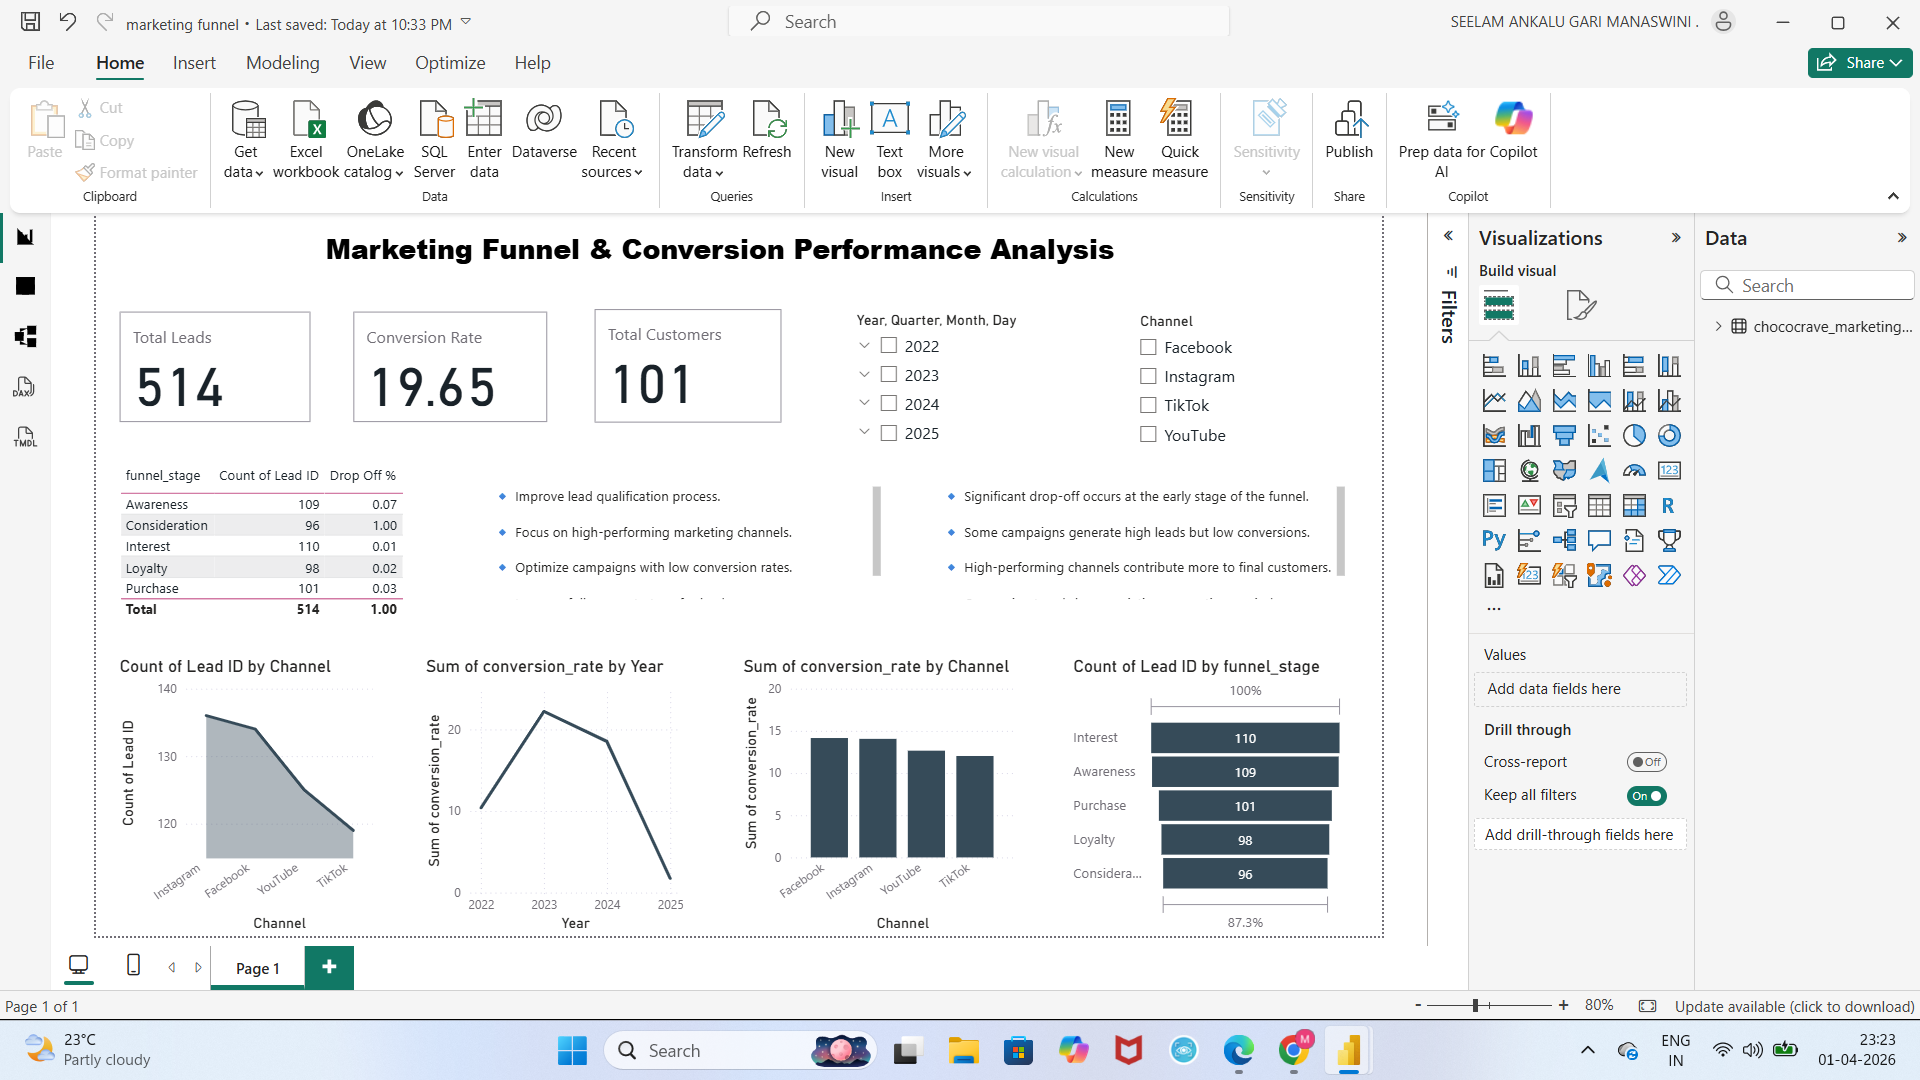

Layout of this report page (visuals, bound fields, positions):
{"tool":"powerbi","page":{"name":"Page 1","canvas":[1280,720],"ordinal":0},"visuals":[{"type":"funnel","fields":{"Category":["chococrave_marketing_funnel_202.funnel_stage"],"Y":["Count(chococrave_marketing_funnel_202.Lead ID)"]},"box":[967.4,440.5,279.9,279.9],"z":0},{"type":"columnChart","fields":{"Category":["chococrave_marketing_funnel_202.Channel"],"Y":["Sum(chococrave_marketing_funnel_202.conversion_rate)"]},"box":[639.5,440.5,279.9,279.9],"z":1000},{"type":"lineChart","fields":{"Category":["chococrave_marketing_funnel_202.Date.Variation.Date Hierarchy.Year","chococrave_marketing_funnel_202.Date.Variation.Date Hierarchy.Quarter","chococrave_marketing_funnel_202.Date.Variation.Date Hierarchy.Month","chococrave_marketing_funnel_202.Date.Variation.Date Hierarchy.Day"],"Y":["Sum(chococrave_marketing_funnel_202.conversion_rate)"]},"box":[323.8,440.5,266.2,279.9],"z":2000},{"type":"cardVisual","fields":{"Data":["chococrave_marketing_funnel_202.Total Leads"]},"box":[19.2,93.3,200.3,120.8],"z":3000},{"type":"slicer","fields":{"Values":["chococrave_marketing_funnel_202.Channel"]},"box":[1026.4,94.7,194.9,155.1],"z":4000},{"type":"slicer","fields":{"Values":["chococrave_marketing_funnel_202.Date.Variation.Date Hierarchy.Year","chococrave_marketing_funnel_202.Date.Variation.Date Hierarchy.Quarter","chococrave_marketing_funnel_202.Date.Variation.Date Hierarchy.Month","chococrave_marketing_funnel_202.Date.Variation.Date Hierarchy.Day"]},"box":[743.7,93.3,207.2,155.1],"z":5000},{"type":"tableEx","fields":{"Values":["chococrave_marketing_funnel_202.funnel_stage","chococrave_marketing_funnel_202.Lead ID","chococrave_marketing_funnel_202.Drop Off %"]},"box":[19.2,245.6,303.3,177],"z":6000},{"type":"cardVisual","fields":{"Data":["chococrave_marketing_funnel_202.Total Customers"]},"box":[491.3,90.6,196.2,123.5],"z":7000},{"type":"cardVisual","fields":{"Data":["chococrave_marketing_funnel_202.Conversion Rate"]},"box":[251.1,93.3,203.1,120.8],"z":8000},{"type":"textbox","box":[837.1,267.6,410.3,122.1],"z":9000},{"type":"textbox","box":[391.1,267.6,395.2,122.1],"z":10000},{"type":"textbox","box":[193.5,11,853.5,50.8],"z":11000},{"type":"areaChart","fields":{"Category":["chococrave_marketing_funnel_202.Channel"],"Y":["CountNonNull(chococrave_marketing_funnel_202.Lead ID)"]},"box":[19.2,440.5,262.1,279.9],"z":12000}]}

Visuals, with their boxes on the page's 1280x720 design canvas (x1, y1, x2, y2). These are canvas units, not pixel positions in the 1920x1080 screenshot, which may show the page scaled, cropped or inside an application window:
funnel - chococrave_marketing_funnel_202.funnel_stage x Count(chococrave_marketing_funnel_202.Lead ID): pyautogui.locateOnScreen(967, 440, 1247, 720)
columnChart - chococrave_marketing_funnel_202.Channel x Sum(chococrave_marketing_funnel_202.conversion_rate): pyautogui.locateOnScreen(640, 440, 919, 720)
lineChart - chococrave_marketing_funnel_202.Date.Variation.Date Hierarchy.Year x chococrave_marketing_funnel_202.Date.Variation.Date Hierarchy.Quarter: pyautogui.locateOnScreen(324, 440, 590, 720)
cardVisual - chococrave_marketing_funnel_202.Total Leads: pyautogui.locateOnScreen(19, 93, 220, 214)
slicer - chococrave_marketing_funnel_202.Channel: pyautogui.locateOnScreen(1026, 95, 1221, 250)
slicer - chococrave_marketing_funnel_202.Date.Variation.Date Hierarchy.Year x chococrave_marketing_funnel_202.Date.Variation.Date Hierarchy.Quarter: pyautogui.locateOnScreen(744, 93, 951, 248)
tableEx - chococrave_marketing_funnel_202.funnel_stage x chococrave_marketing_funnel_202.Lead ID: pyautogui.locateOnScreen(19, 246, 322, 423)
cardVisual - chococrave_marketing_funnel_202.Total Customers: pyautogui.locateOnScreen(491, 91, 688, 214)
cardVisual - chococrave_marketing_funnel_202.Conversion Rate: pyautogui.locateOnScreen(251, 93, 454, 214)
textbox: pyautogui.locateOnScreen(837, 268, 1247, 390)
textbox: pyautogui.locateOnScreen(391, 268, 786, 390)
textbox: pyautogui.locateOnScreen(194, 11, 1047, 62)
areaChart - chococrave_marketing_funnel_202.Channel x CountNonNull(chococrave_marketing_funnel_202.Lead ID): pyautogui.locateOnScreen(19, 440, 281, 720)
